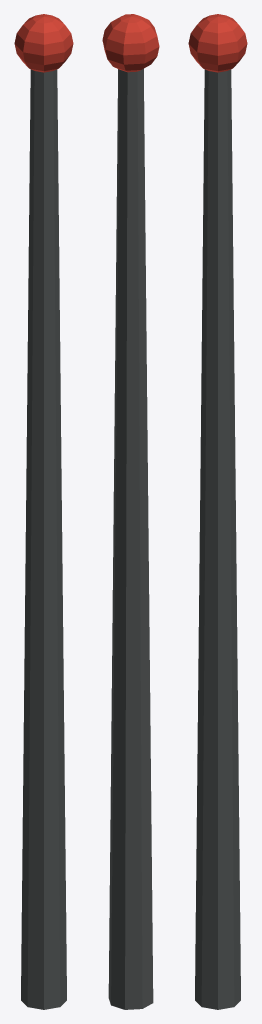
File: pole.fbx
3 views of the same model, side by side, from view 1: azimuth 90°, elevation 25°; view 2: azimuth 210°, elevation 25°; view 3: azimuth 270°, elevation 25° (orthographic).
Parts seen in each view (by area): view 1: pole; view 2: pole; view 3: pole.
Part boxes in pixels (left/top/right/bottom): pole: left=14, top=14, right=73, bottom=1009; pole: left=102, top=14, right=159, bottom=1009; pole: left=188, top=14, right=247, bottom=1009.
Bounding box in the file's own units: 0.1134 × 2.08 × 0.1134.
